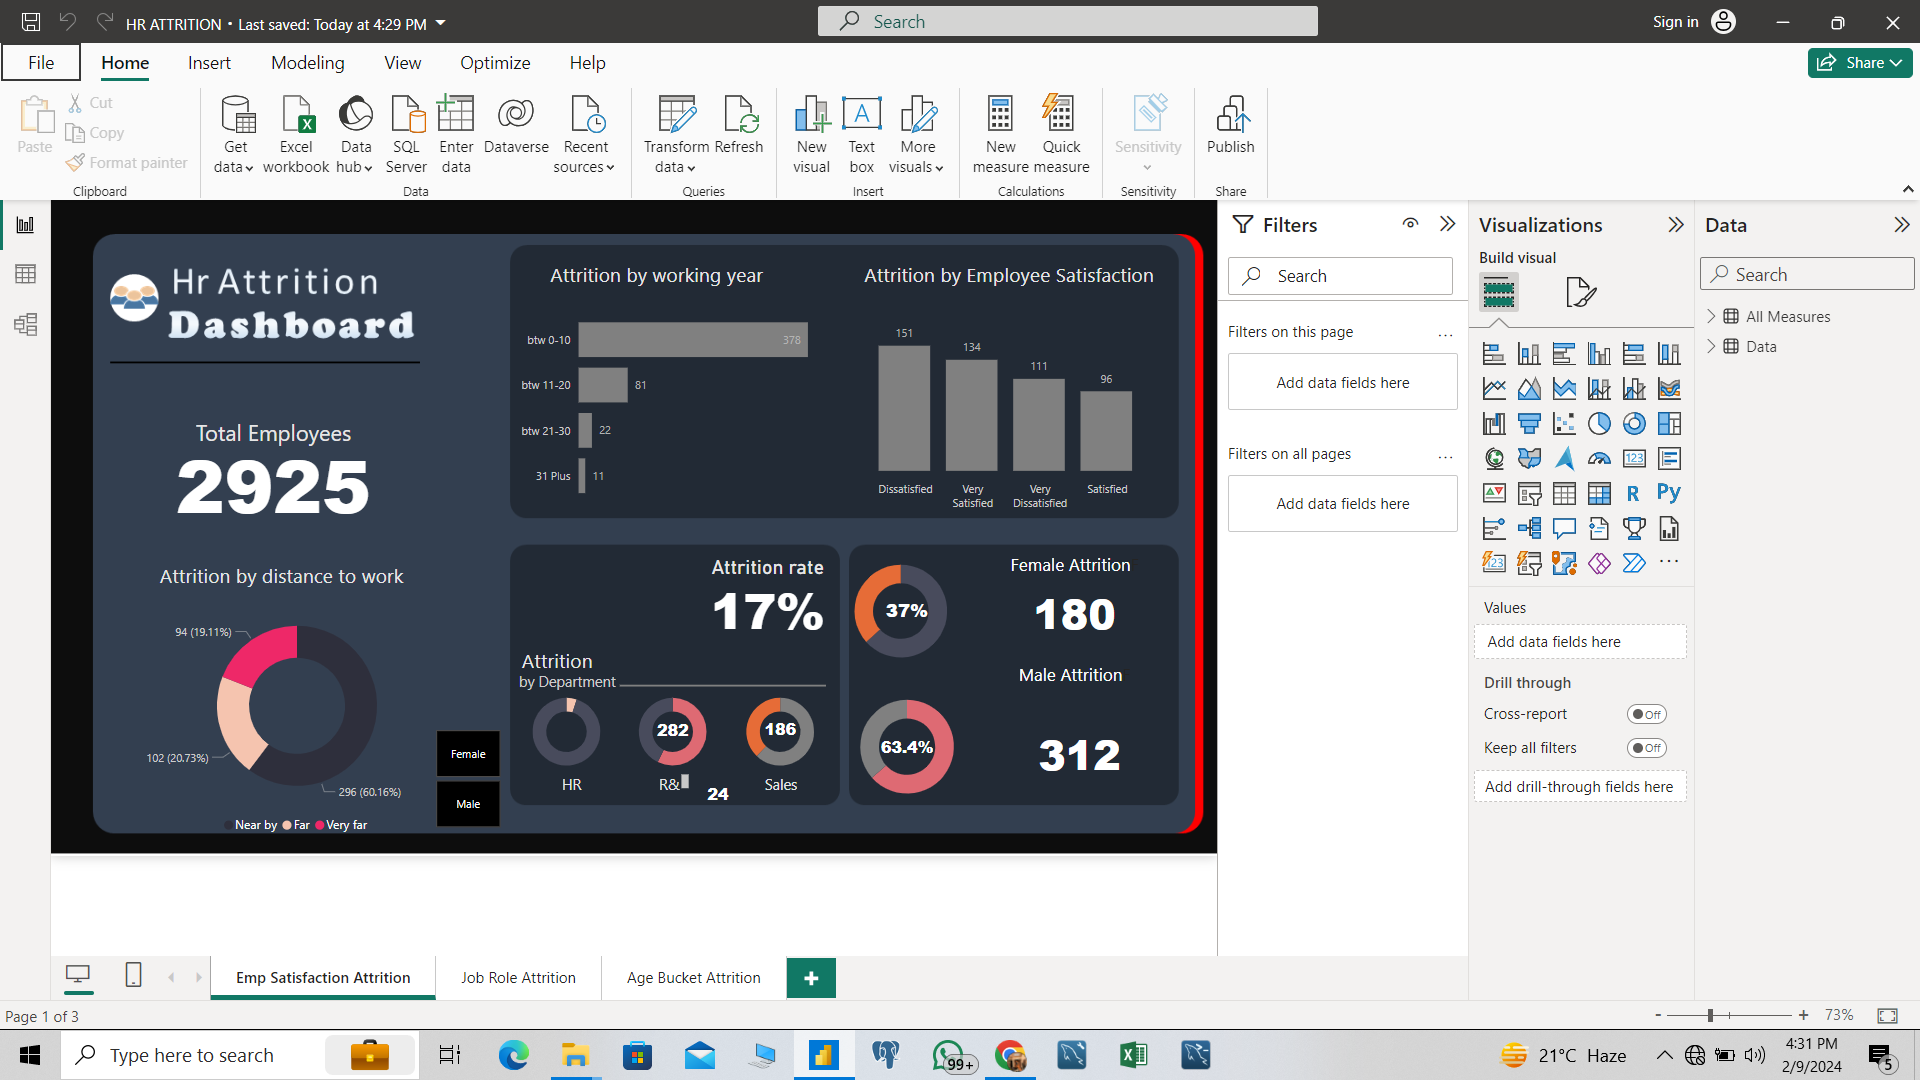

The dashboard page shown, as its layout file describes it:
{"tool":"powerbi","page":{"name":"Emp Satisfaction Attrition","canvas":[1280,720],"ordinal":0},"visuals":[{"type":"card","fields":{"Values":["All Measures.Total Employees"]},"box":[108.4,255.2,271.7,104.3],"z":0},{"type":"donutChart","fields":{"Category":["Data.Distance Status"],"Y":["All Measures.Total Attrition"]},"box":[61.7,435,417.2,270.3],"z":1000},{"type":"barChart","fields":{"Y":["All Measures.Total Attrition","All Measures.Total Attrition"],"Category":["Data.Working Year Group"]},"box":[506.3,101.5,344.4,247],"z":2000},{"type":"columnChart","fields":{"Category":["Data.Job Satisfaction Status"],"Y":["All Measures.Total Attrition"]},"box":[863.1,101.5,360.9,247],"z":3000},{"type":"donutChart","fields":{"Y":["All Measures.HR Department","All Measures.Remaining HR"]},"box":[503.6,532.4,124.9,102.9],"z":4000},{"type":"donutChart","fields":{"Y":["All Measures.R&D Department","All Measures.Remaining R&D"]},"box":[620.9,532.4,124.9,102.9],"z":5000},{"type":"donutChart","fields":{"Y":["All Measures.Remaining Sales","All Measures.Sales Department"]},"box":[738.3,532.4,124.9,102.9],"z":6000},{"type":"donutChart","fields":{"Category":["Data.Gender"],"Y":["All Measures.Total Attrition"]},"box":[828.8,382.8,208.6,137.2],"z":7000},{"type":"donutChart","fields":{"Category":["Data.Gender"],"Y":["All Measures.Total Attrition"]},"box":[839.8,531,200.3,138.6],"z":8000},{"type":"textbox","box":[142.7,234.6,203.1,42.5],"z":9000},{"type":"textbox","box":[61.7,392.5,382.8,42.5],"z":10000},{"type":"textbox","box":[517.3,61.7,295,42.5],"z":11000},{"type":"textbox","box":[878.2,61.7,347.2,42.5],"z":12000},{"type":"card","fields":{"Values":["All Measures.HR Department"]},"box":[683.4,635.3,97.4,37],"z":13000},{"type":"card","fields":{"Values":["All Measures.R&D Department"]},"box":[634,565.4,97.4,37],"z":14000},{"type":"card","fields":{"Values":["All Measures.Sales Department"]},"box":[752,564,97.4,37],"z":15000},{"type":"card","title":"Attrition rate","fields":{"Values":["All Measures.% Attrition"]},"box":[712.2,391.1,149.6,87.8],"z":16000},{"type":"textbox","box":[548.9,625.7,45.3,35.7],"z":17000},{"type":"textbox","box":[660,625.7,45.3,35.7],"z":18000},{"type":"textbox","box":[763,625.7,76.8,35.7],"z":19000},{"type":"textbox","box":[491.3,485.8,129,42.5],"z":20000},{"type":"textbox","box":[502.2,511.8,129,42.5],"z":21000},{"type":"shape","box":[624.4,520.1,226.4,26.1],"z":22000},{"type":"card","fields":{"Values":["All Measures.%Male_Attrition"]},"box":[900.2,580.4,79.6,43.9],"z":23000},{"type":"card","fields":{"Values":["All Measures.%Female_Attrition"]},"box":[907,430.9,65.9,41.2],"z":24000},{"type":"textbox","box":[1022.3,382.8,203.1,42.5],"z":25000},{"type":"textbox","box":[1037.4,503.6,172.9,42.5],"z":26000},{"type":"card","title":"Attrition rate","fields":{"Values":["All Measures.Total Attrition"]},"box":[1063.5,425.4,120.8,53.5],"z":27000},{"type":"card","title":"Attrition rate","fields":{"Values":["All Measures.Total Attrition"]},"box":[1074.4,580.4,109.8,53.5],"z":28000},{"type":"slicer","fields":{"Values":["Data.Gender"]},"box":[396.6,575,120.8,120.8],"z":29000}]}

Visuals, with their boxes on the page's 1280x720 design canvas (x1, y1, x2, y2). These are canvas units, not pixel positions in the 1920x1080 screenshot, which may show the page scaled, cropped or inside an application window:
card - All Measures.Total Employees: BBox(108, 255, 380, 360)
donutChart - Data.Distance Status x All Measures.Total Attrition: BBox(62, 435, 479, 705)
barChart - All Measures.Total Attrition x All Measures.Total Attrition: BBox(506, 102, 851, 348)
columnChart - Data.Job Satisfaction Status x All Measures.Total Attrition: BBox(863, 102, 1224, 348)
donutChart - All Measures.HR Department x All Measures.Remaining HR: BBox(504, 532, 628, 635)
donutChart - All Measures.R&D Department x All Measures.Remaining R&D: BBox(621, 532, 746, 635)
donutChart - All Measures.Remaining Sales x All Measures.Sales Department: BBox(738, 532, 863, 635)
donutChart - Data.Gender x All Measures.Total Attrition: BBox(829, 383, 1037, 520)
donutChart - Data.Gender x All Measures.Total Attrition: BBox(840, 531, 1040, 670)
textbox: BBox(143, 235, 346, 277)
textbox: BBox(62, 392, 444, 435)
textbox: BBox(517, 62, 812, 104)
textbox: BBox(878, 62, 1225, 104)
card - All Measures.HR Department: BBox(683, 635, 781, 672)
card - All Measures.R&D Department: BBox(634, 565, 731, 602)
card - All Measures.Sales Department: BBox(752, 564, 849, 601)
"Attrition rate" card: BBox(712, 391, 862, 479)
textbox: BBox(549, 626, 594, 661)
textbox: BBox(660, 626, 705, 661)
textbox: BBox(763, 626, 840, 661)
textbox: BBox(491, 486, 620, 528)
textbox: BBox(502, 512, 631, 554)
shape: BBox(624, 520, 851, 546)
card - All Measures.%Male_Attrition: BBox(900, 580, 980, 624)
card - All Measures.%Female_Attrition: BBox(907, 431, 973, 472)
textbox: BBox(1022, 383, 1225, 425)
textbox: BBox(1037, 504, 1210, 546)
"Attrition rate" card: BBox(1064, 425, 1184, 479)
"Attrition rate" card: BBox(1074, 580, 1184, 634)
slicer - Data.Gender: BBox(397, 575, 517, 696)
